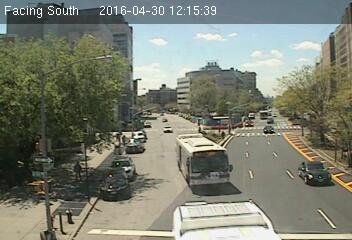neg: (45, 205, 69, 237), (23, 171, 44, 198), (26, 133, 44, 156), (87, 129, 102, 149), (135, 115, 148, 132), (128, 73, 140, 88), (191, 115, 202, 129), (158, 114, 165, 124)
pos: (69, 159, 87, 183), (119, 133, 130, 147), (219, 129, 229, 142), (227, 124, 235, 135)
